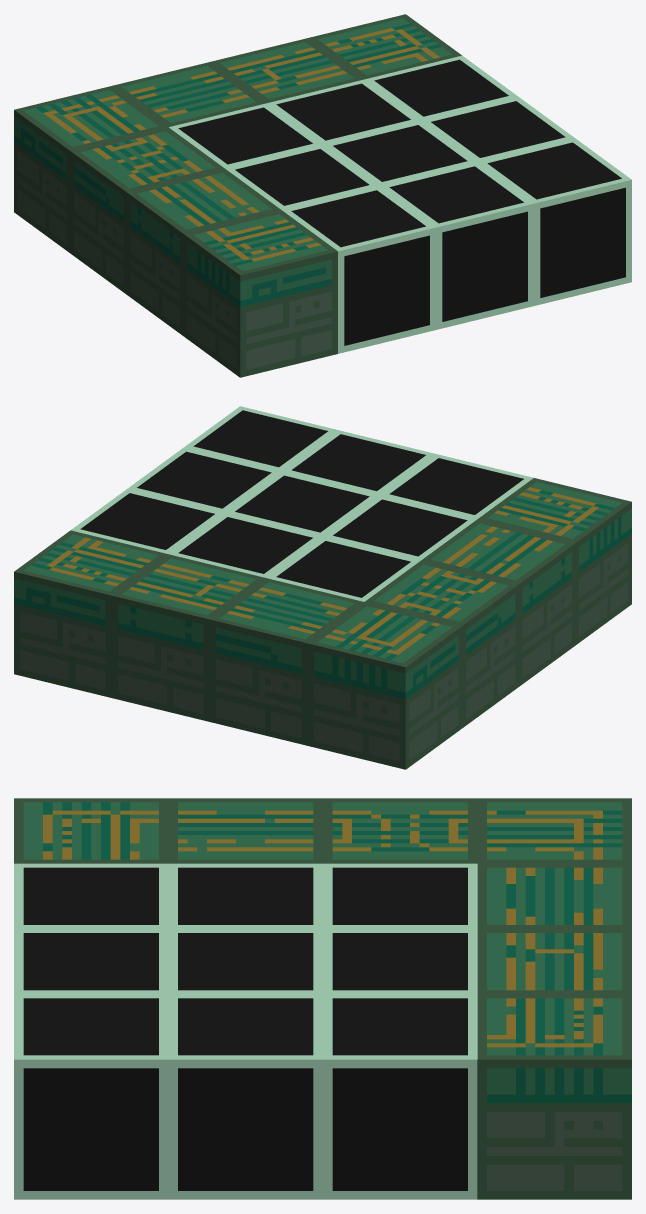
The model's file is m_tiles_17_4x4.fbx.
3 renders of one model, top to bottom at view 1: azimuth 30°, elevation 25°; view 2: azimuth 150°, elevation 25°; view 3: azimuth 270°, elevation 25°, orthographic. The views are drawn at different scales.
Visible parts, largest first — view 1: m_tiles_17_4x4; view 2: m_tiles_17_4x4; view 3: m_tiles_17_4x4.
Part boxes in pixels (x1,y1,x2,y2): m_tiles_17_4x4: (14,14,631,377); m_tiles_17_4x4: (14,406,631,769); m_tiles_17_4x4: (14,798,631,1199).
Size of the model in its own units: 6.4 by 1.6 by 6.4.
1 material, 1 textured.
